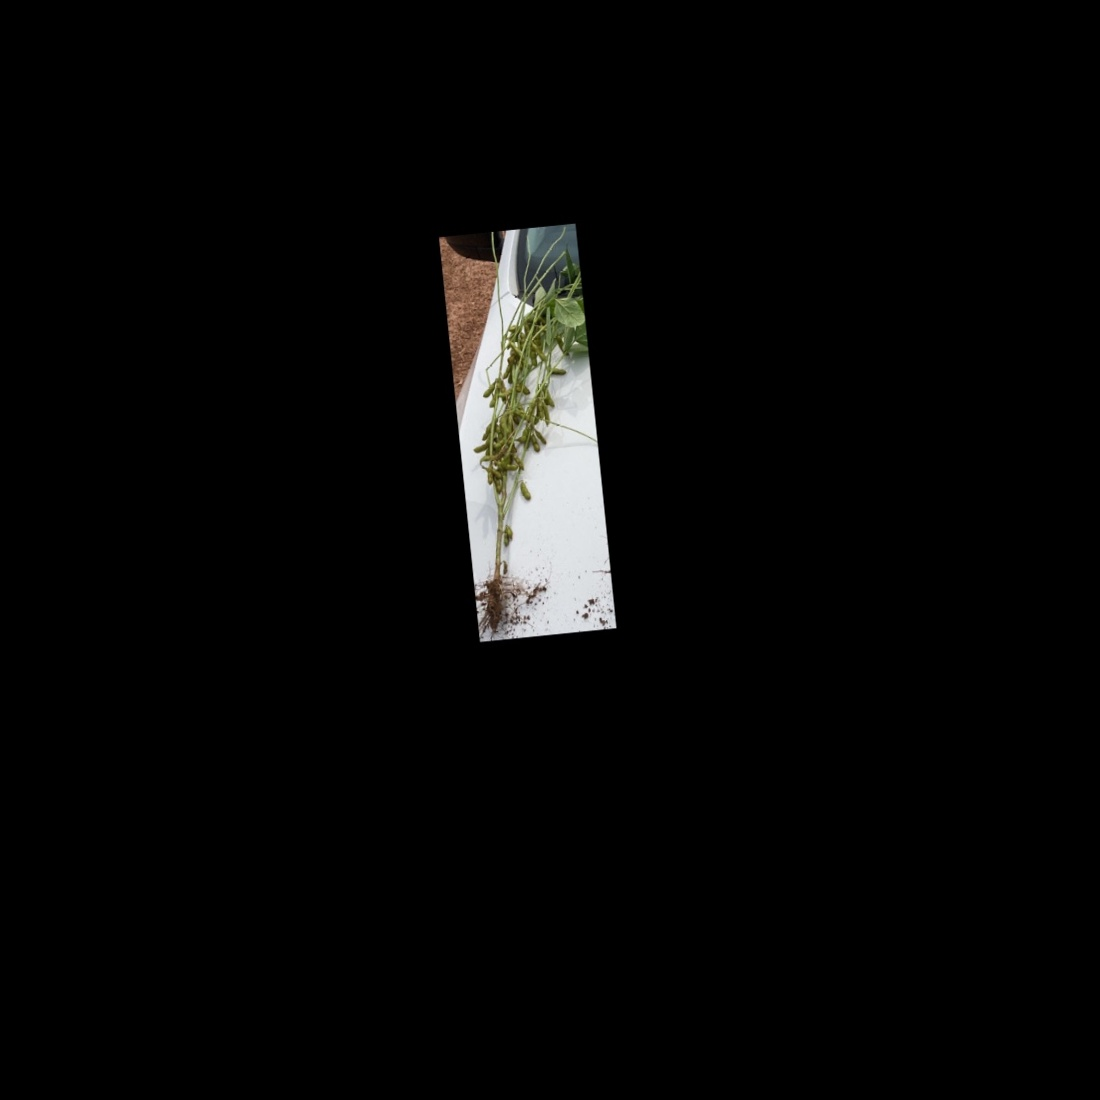pod: (514, 477, 533, 505), (529, 340, 548, 364), (479, 380, 500, 400), (531, 425, 549, 447), (512, 451, 527, 472), (528, 431, 541, 455), (515, 423, 531, 442), (540, 401, 551, 427), (548, 365, 571, 377)
soy: (441, 225, 612, 627)
